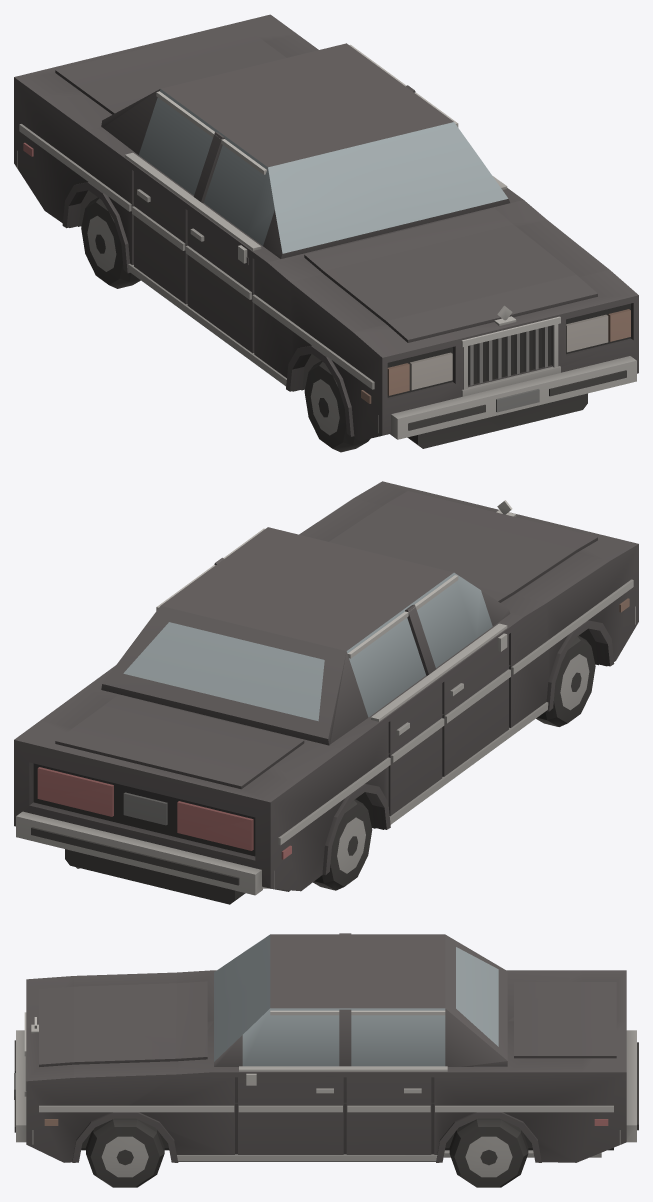
Rendered from towncar.glb.
The picture shows the model from 3 angles, top to bottom: view 1: azimuth 30°, elevation 25°; view 2: azimuth 150°, elevation 25°; view 3: azimuth 270°, elevation 25°; orthographic projection. The views are drawn at different scales.
Parts seen in each view (by area): view 1: towncar; view 2: towncar; view 3: towncar.
Part boxes in pixels (x1,y1,x2,y2): towncar: (14,14,638,452); towncar: (14,481,638,904); towncar: (14,933,638,1187).
Bounding box in the file's own units: 1.98 × 1.5 × 5.
